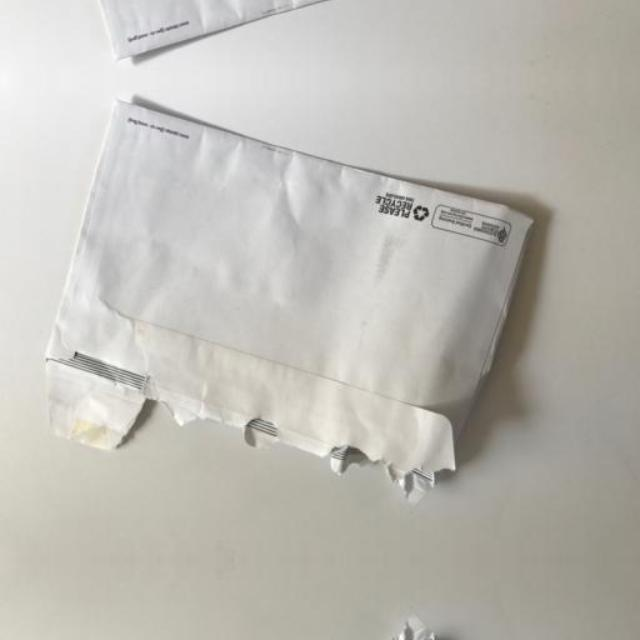paper: (42, 97, 530, 495), (41, 0, 530, 63), (41, 625, 530, 640)
